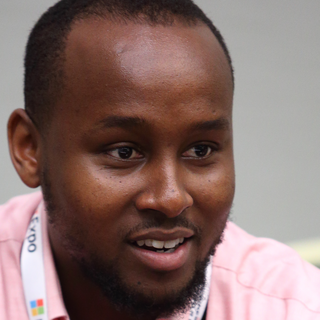eye: (94, 138, 147, 166), (175, 139, 221, 163)
